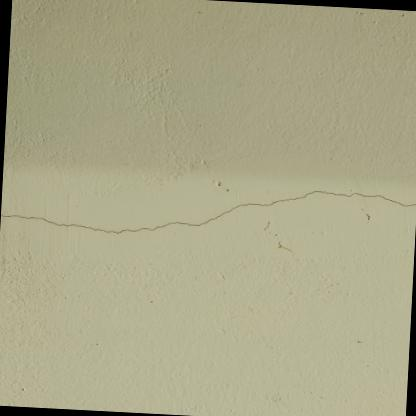crack: (0, 189, 416, 233)
